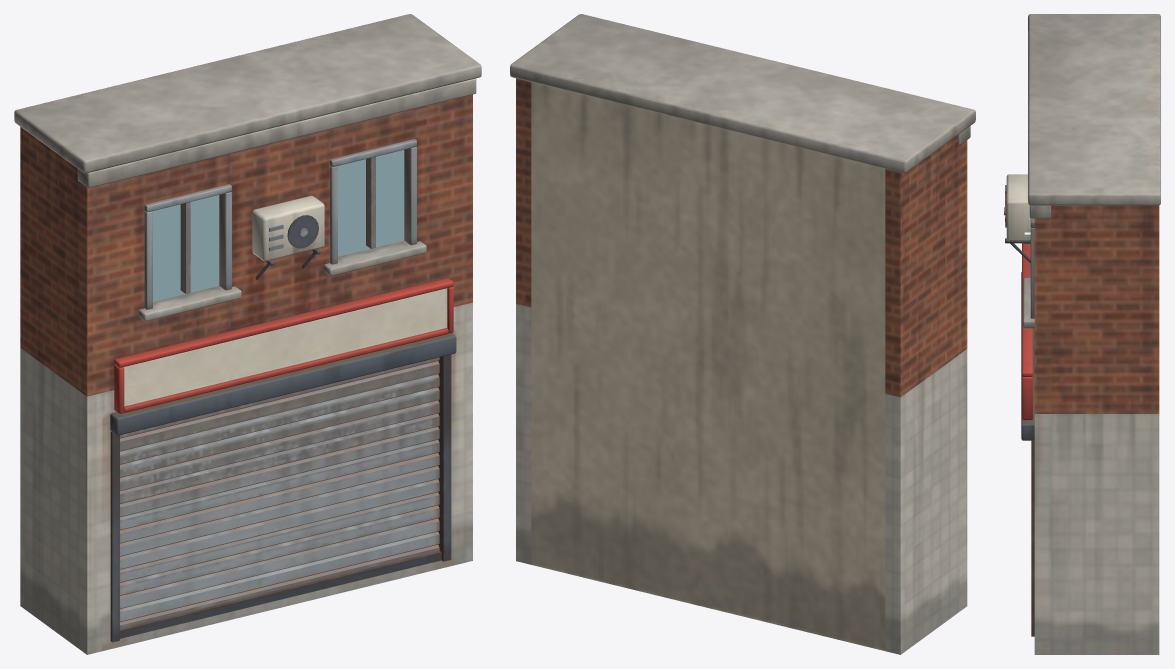
Rendered from filler_shutter.glb.
The picture shows the model from 3 angles, left to right: view 1: azimuth 30°, elevation 25°; view 2: azimuth 150°, elevation 25°; view 3: azimuth 270°, elevation 25°; orthographic projection. The views are drawn at different scales.
Parts seen in each view (by area): view 1: filler_shutter; view 2: filler_shutter; view 3: filler_shutter.
Part boxes in pixels (left/top/right/bottom): filler_shutter: left=14, top=14, right=481, bottom=654; filler_shutter: left=510, top=14, right=975, bottom=654; filler_shutter: left=1004, top=14, right=1160, bottom=654.
Bounding box in the file's own units: 5.16 × 6.16 × 1.89.
11 materials, 10 textured.
